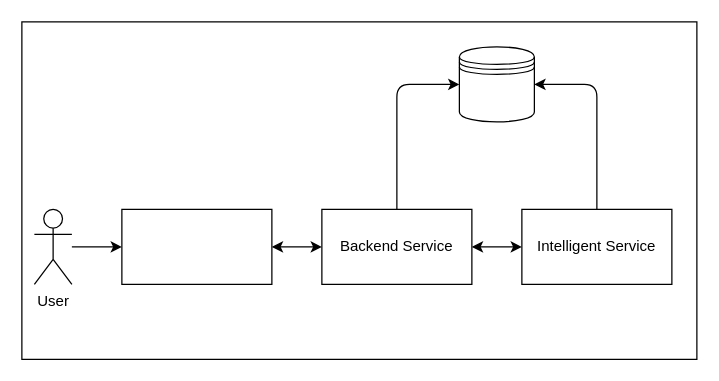
The diagram is 719 pixels wide and 381 high, and some of its shapes have lost their labels. Here are the shapes that lost their labels. From the top down, the centre of each, then its label:
the point at 496,84: Database
the point at 196,246: Frontend Service
